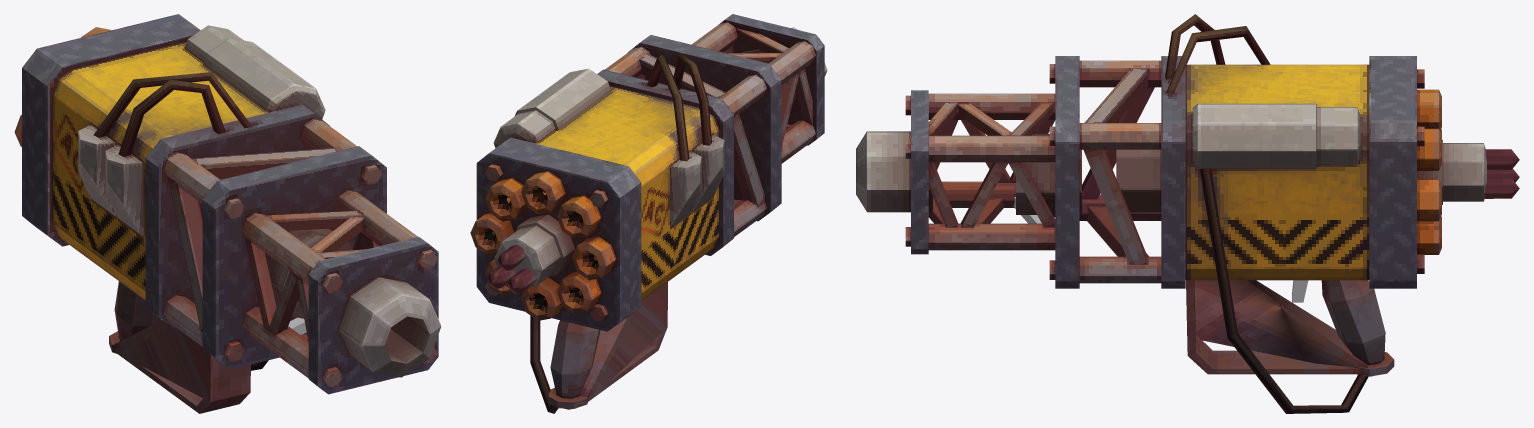
The model's file is item_rebar_gun.glb.
The picture shows the model from 3 angles, left to right: view 1: azimuth 30°, elevation 25°; view 2: azimuth 150°, elevation 25°; view 3: azimuth 270°, elevation 25°; orthographic projection. The views are drawn at different scales.
Parts seen in each view (by area): view 1: RebarGun; view 2: RebarGun (×4); view 3: RebarGun (×3).
Part boxes in pixels (box(x1,y1,x2,y2)): RebarGun: box(14, 14, 441, 413); RebarGun (×4): box(470, 14, 827, 413); RebarGun (×3): box(856, 14, 1519, 413).
Size of the model in its own units: 0.2321 by 0.3795 by 0.6364.
1 material, 1 textured.
